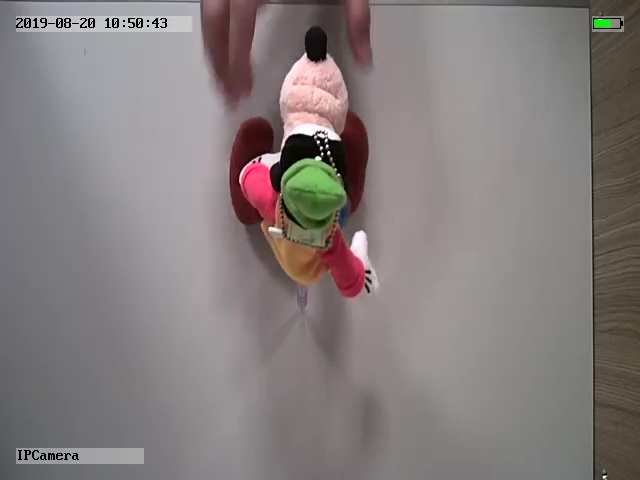goofy: (229, 26, 380, 305)
